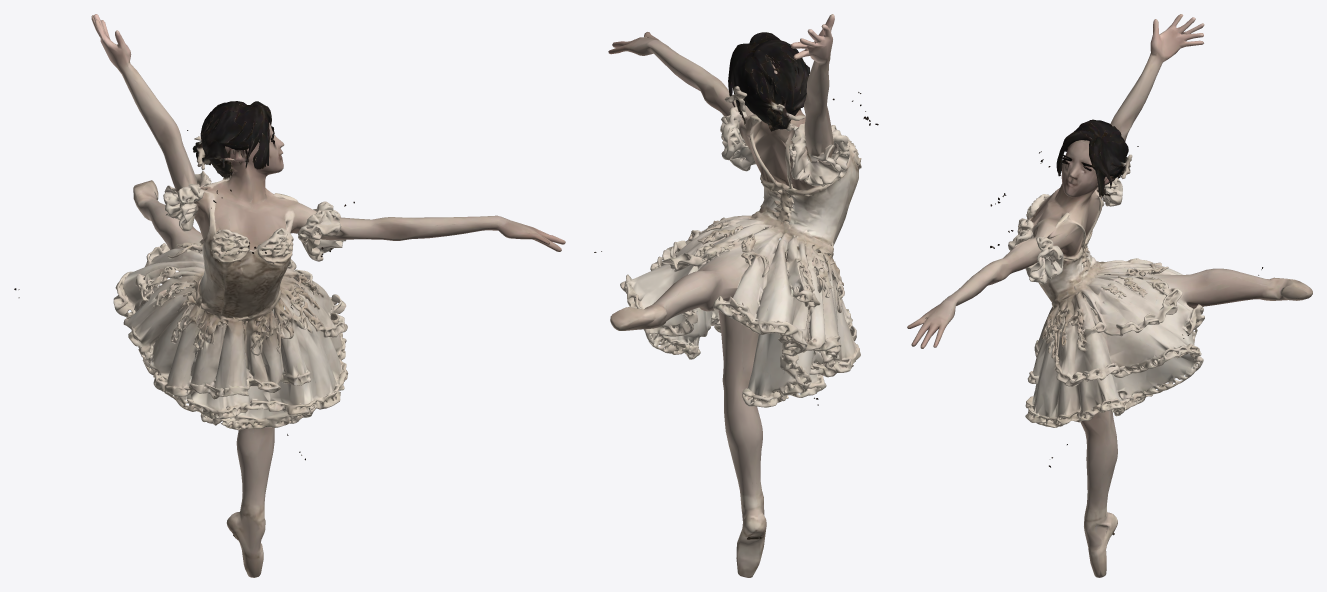
Rendered from ballerina-revised.glb.
The picture shows the model from 3 angles, left to right: view 1: azimuth 30°, elevation 25°; view 2: azimuth 150°, elevation 25°; view 3: azimuth 270°, elevation 25°; orthographic projection. The views are drawn at different scales.
Visible parts, largest first — view 1: geometry_0; view 2: geometry_0; view 3: geometry_0.
Boxes of the visible parts, x1,y1,x2,y2 form: geometry_0: (14,14,565,577); geometry_0: (594,14,878,577); geometry_0: (907,14,1312,577).
Bounding box in the file's own units: 0.6971 × 1 × 0.72.
1 material, 1 textured.
